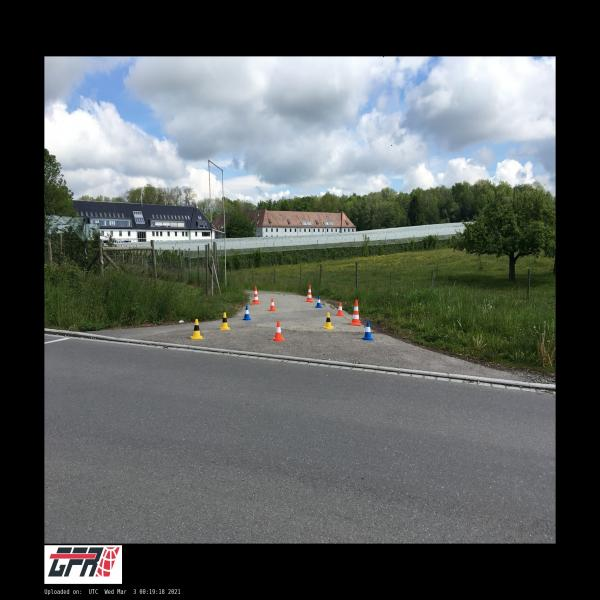blue_cone: (362, 321, 373, 341), (243, 306, 252, 320), (315, 296, 322, 308)
large_orange_cone: (350, 300, 361, 325), (252, 286, 260, 304), (305, 285, 313, 302)
orange_cone: (271, 321, 285, 342), (336, 303, 344, 316), (269, 298, 276, 312)
yellow_cone: (190, 319, 203, 339), (219, 313, 230, 330), (324, 312, 334, 330)
